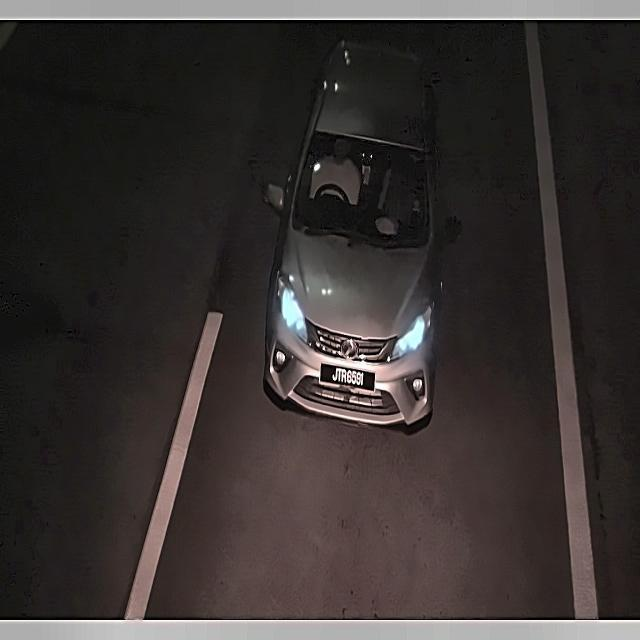car: (320, 358, 375, 392)
